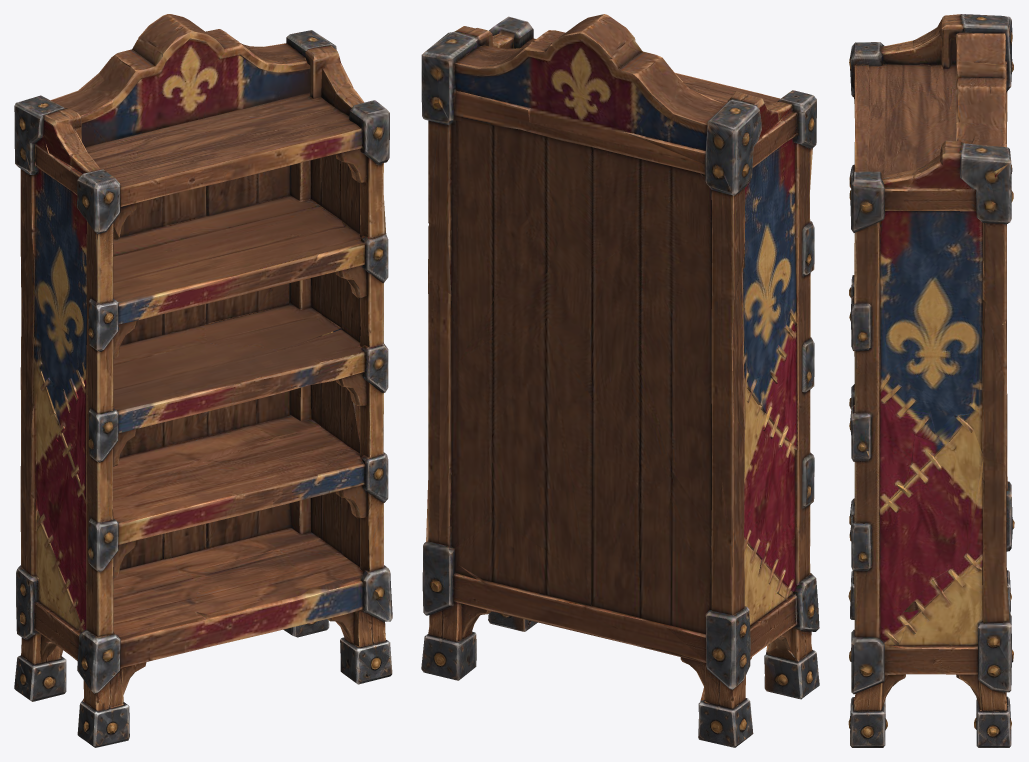
Rendered from feast-shelf-unit.glb.
The picture shows the model from 3 angles, left to right: view 1: azimuth 30°, elevation 25°; view 2: azimuth 150°, elevation 25°; view 3: azimuth 270°, elevation 25°; orthographic projection. The views are drawn at different scales.
Parts seen in each view (by area): view 1: output_unwrapped; view 2: output_unwrapped; view 3: output_unwrapped.
Boxes of the visible parts, x1,y1,x2,y2 form: output_unwrapped: (14, 14, 392, 747); output_unwrapped: (421, 14, 819, 747); output_unwrapped: (848, 14, 1014, 747).
Size of the model in its own units: 0.9401 by 1.9 by 0.4459.
1 material, 1 textured.
